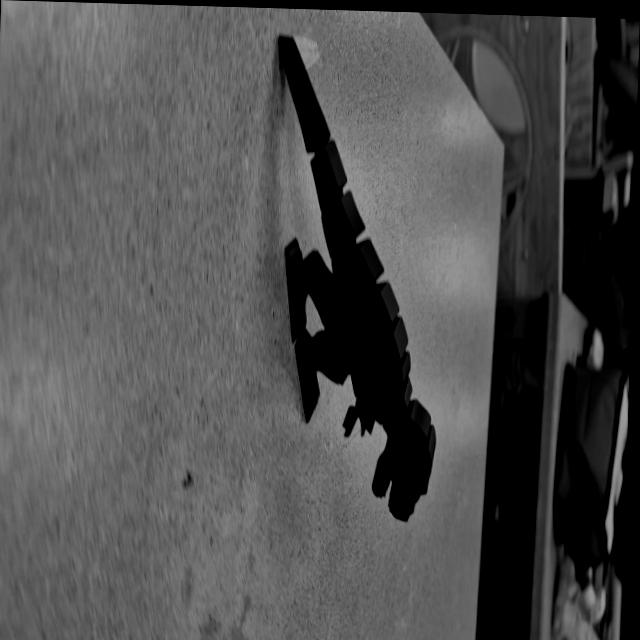dino: (263, 33, 447, 524)
